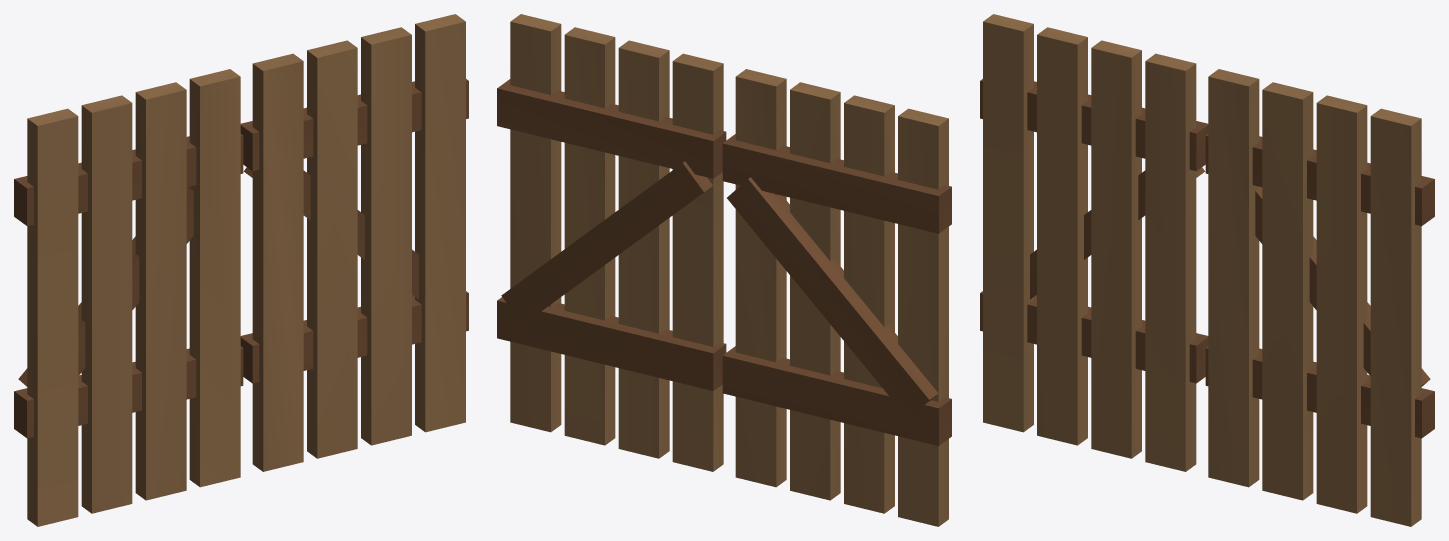
Rendered from gate.glb.
The picture shows the model from 3 angles, left to right: view 1: azimuth 30°, elevation 25°; view 2: azimuth 150°, elevation 25°; view 3: azimuth 330°, elevation 25°; orthographic projection.
Parts seen in each view (by area): view 1: LeafLMesh, LeafRMesh; view 2: LeafRMesh, LeafLMesh; view 3: LeafRMesh, LeafLMesh.
Part boxes in pixels (x1,y1,x2,y2): LeafLMesh: (14, 69, 243, 526); LeafRMesh: (240, 14, 468, 471); LeafRMesh: (497, 14, 726, 471); LeafLMesh: (722, 69, 951, 526); LeafRMesh: (1205, 69, 1434, 526); LeafLMesh: (980, 14, 1208, 471).
Size of the model in its own units: 0.98 by 0.85 by 0.075.
